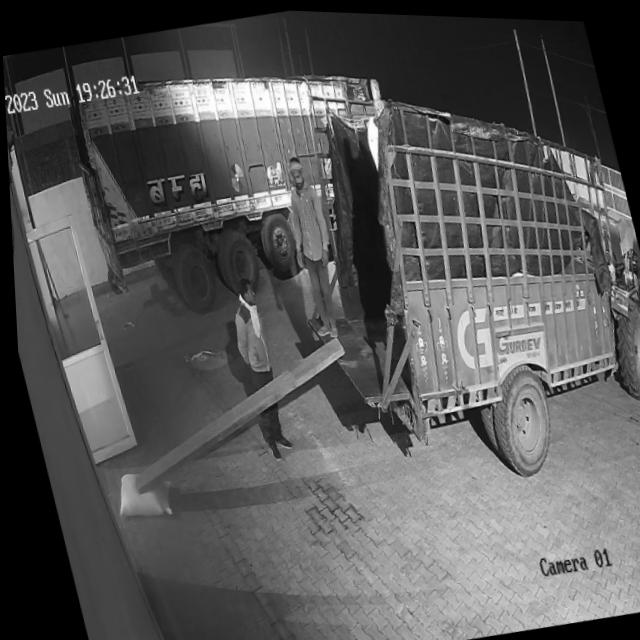sack: (105, 464, 172, 523)
